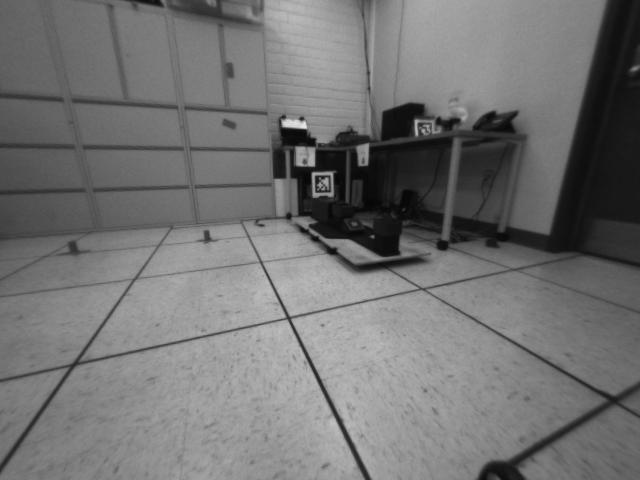X: (58, 240, 92, 258), (196, 228, 221, 245)
